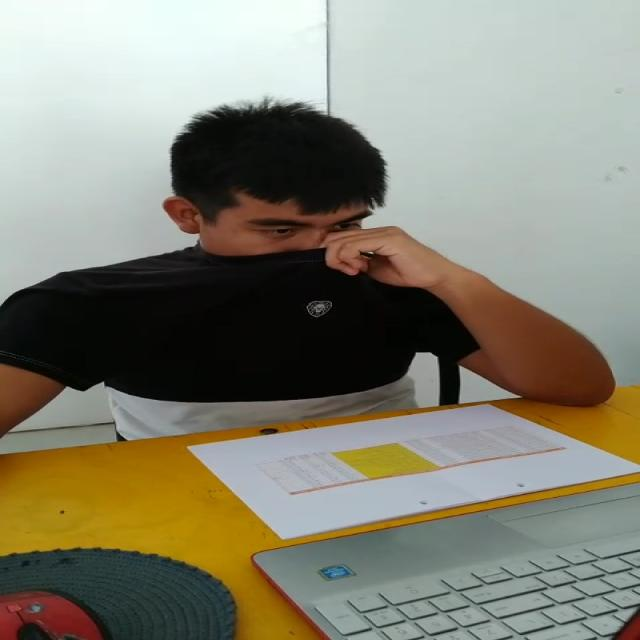8_ropa_rostro: (158, 242, 394, 326)
